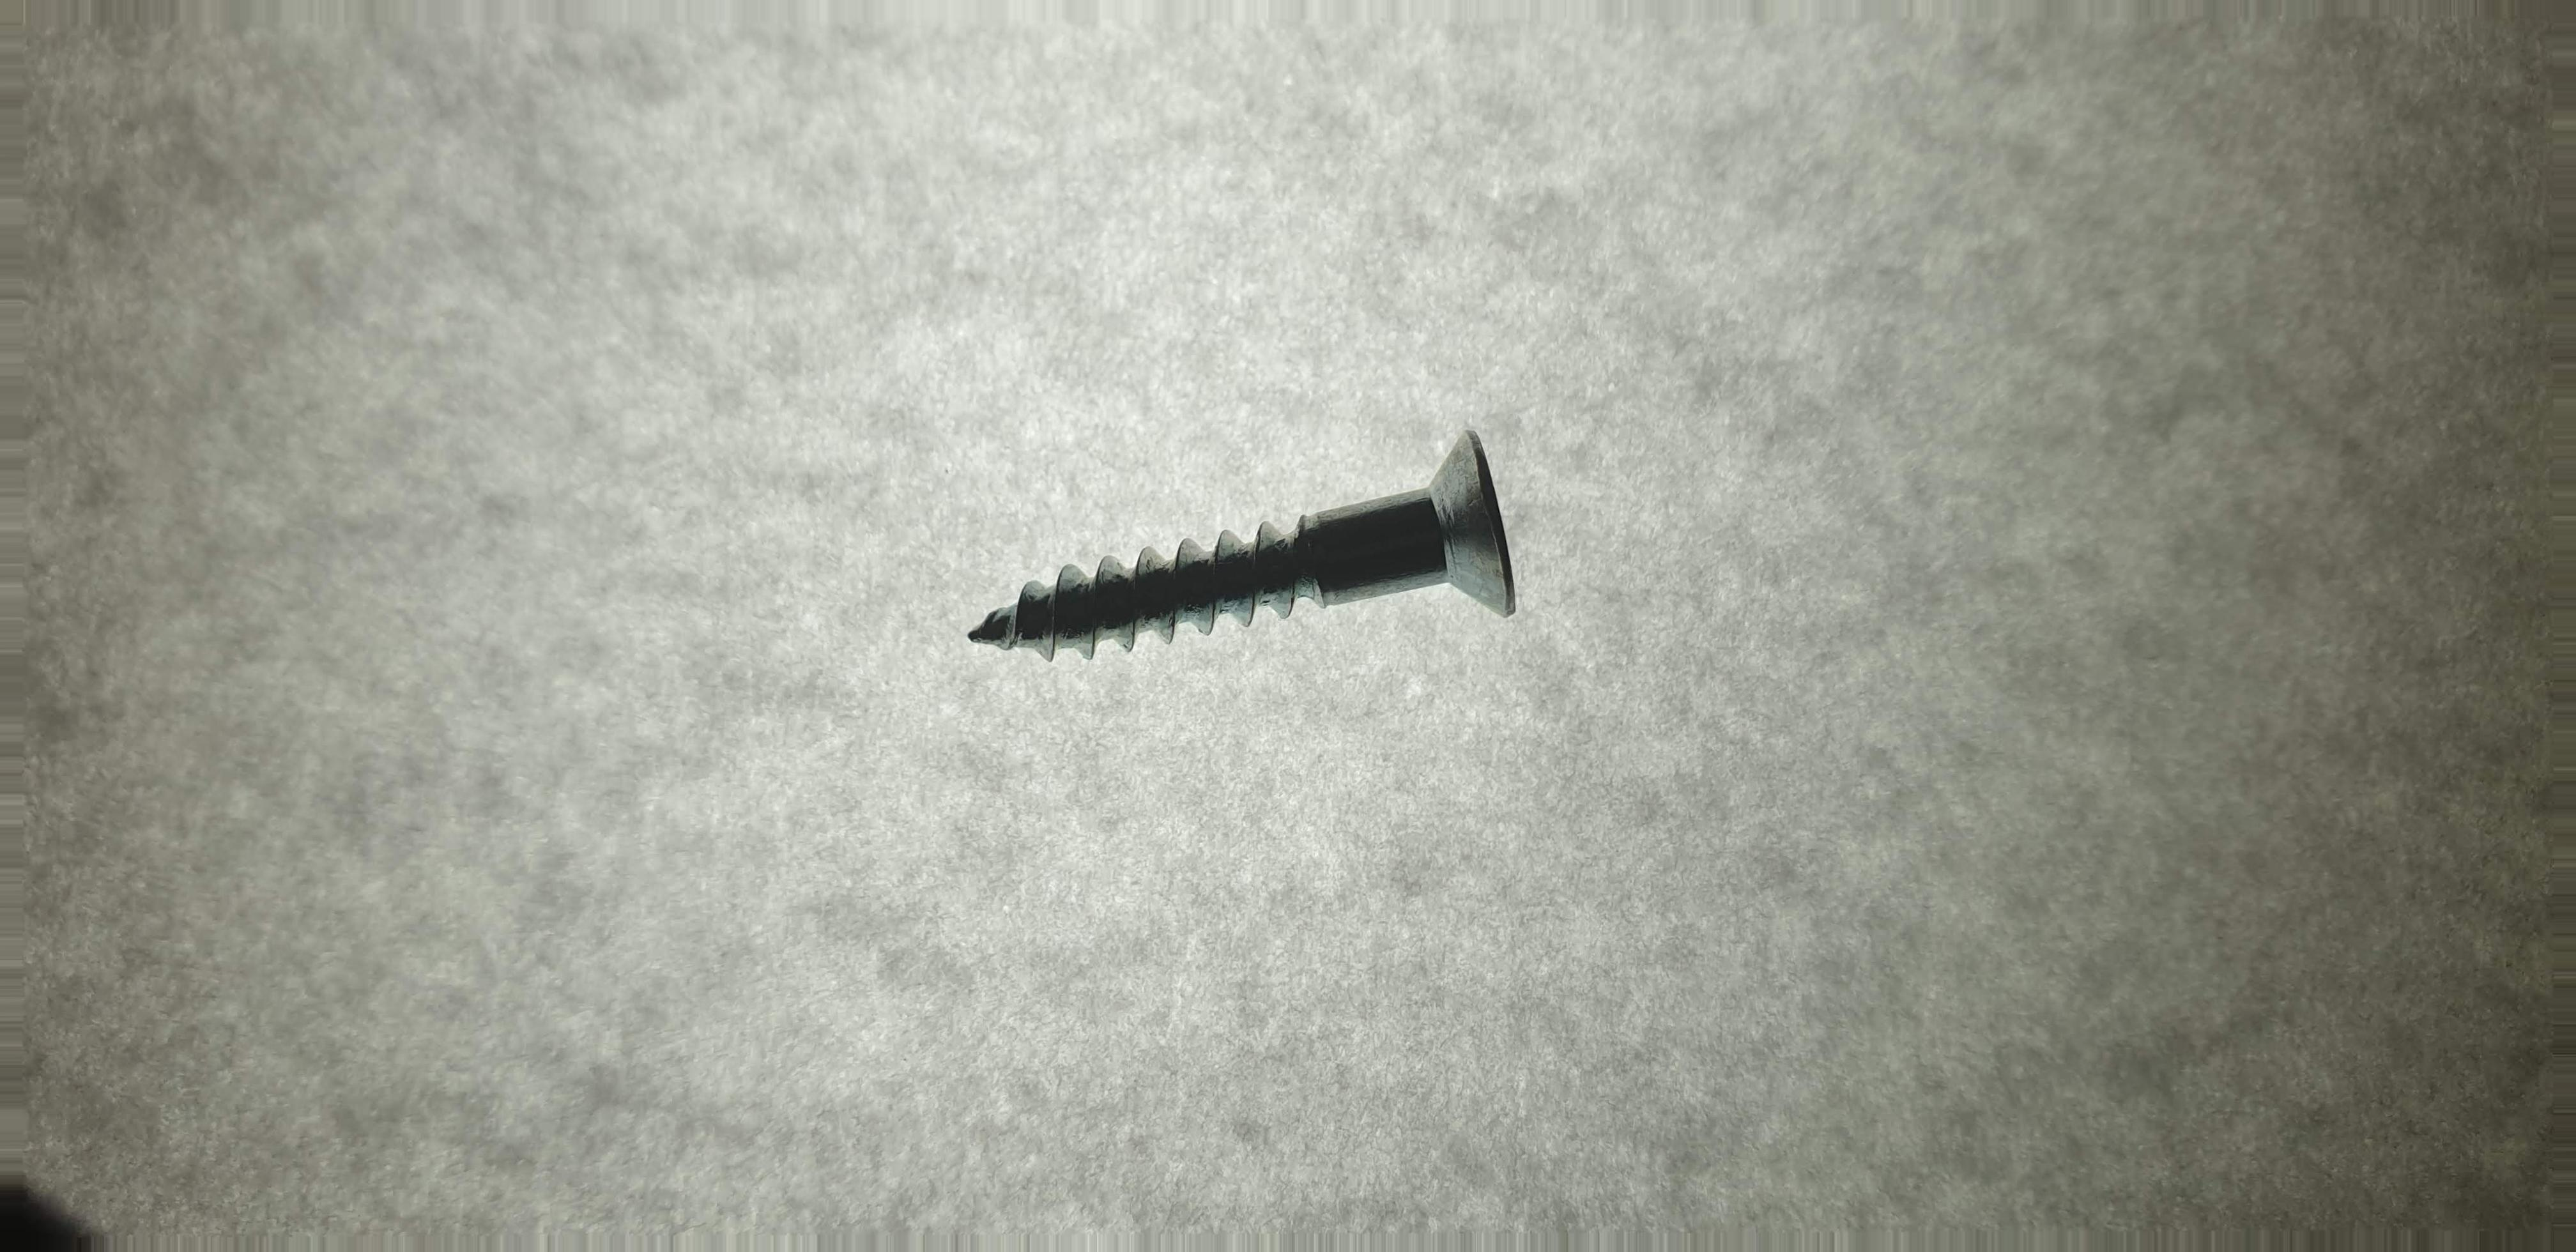S005: (904, 409, 1610, 715)
